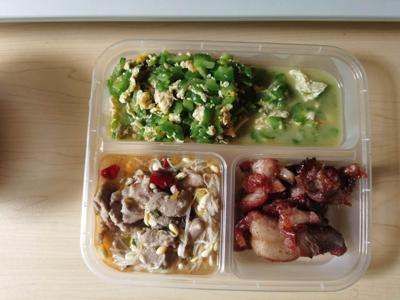r1: (242, 162, 349, 255)
szrp: (101, 159, 216, 273)
